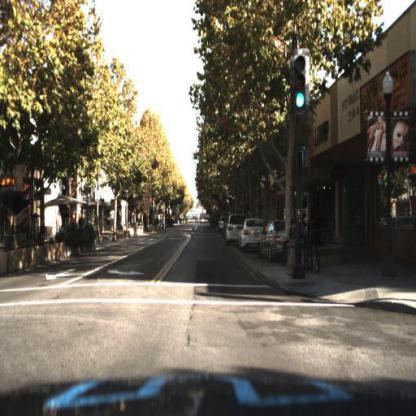car: (259, 214, 286, 258), (239, 218, 267, 250), (228, 212, 245, 246)
pedestrian: (283, 218, 297, 267)
trafficLight: (295, 53, 310, 112)
